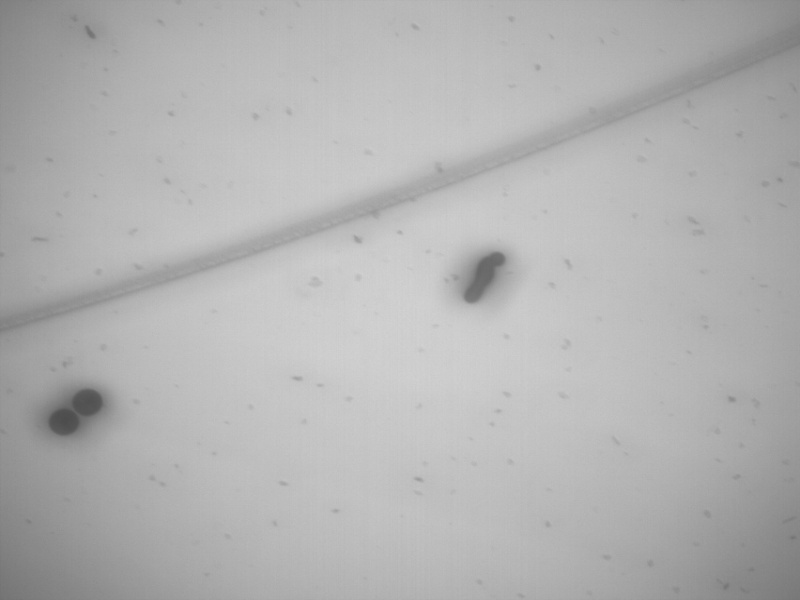bead: (48, 407, 81, 436), (72, 388, 104, 417), (489, 249, 507, 268)
